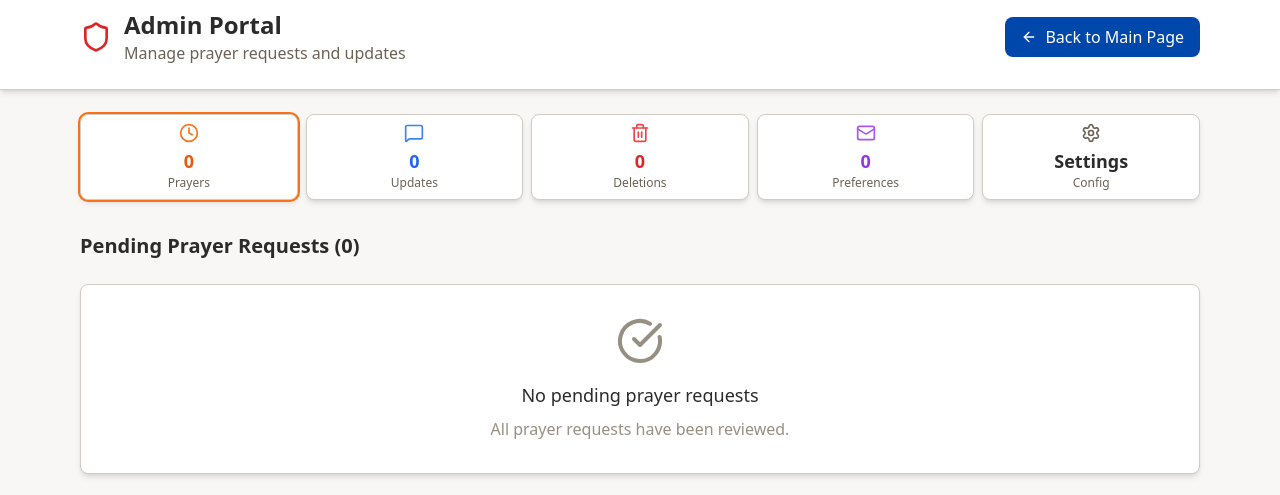
Test case: AdminPortal › Update Management › shows empty state when no pending updates
This screenshot has width=1280, height=495.
Click the button "0 Updates". click: coordinates (414, 157)
box: [306,114,523,200]
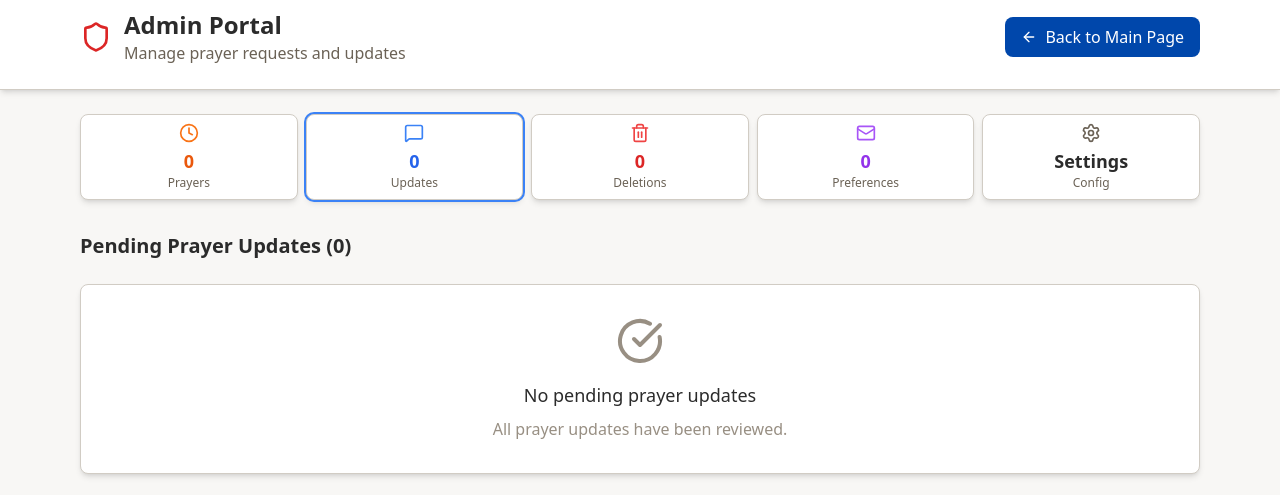
Check: the heading "No pending prayer updates" is shown, box [524,383,756,407]
